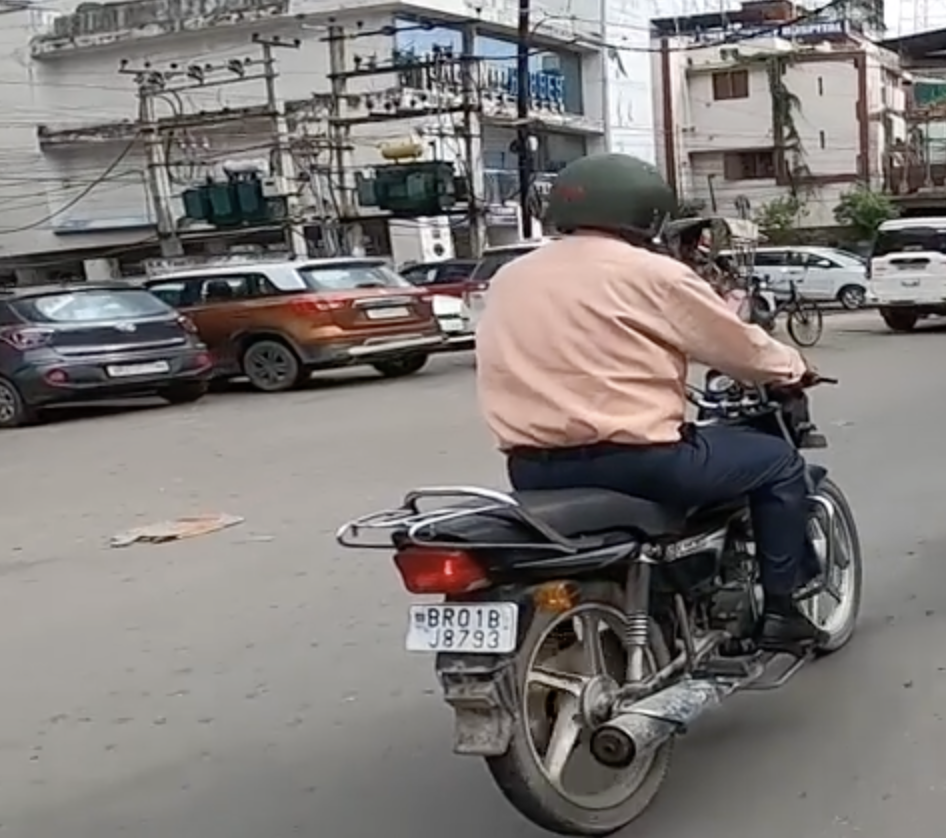motor: (374, 336, 869, 832)
number: (404, 603, 516, 654)
with helmet: (546, 145, 667, 239)
